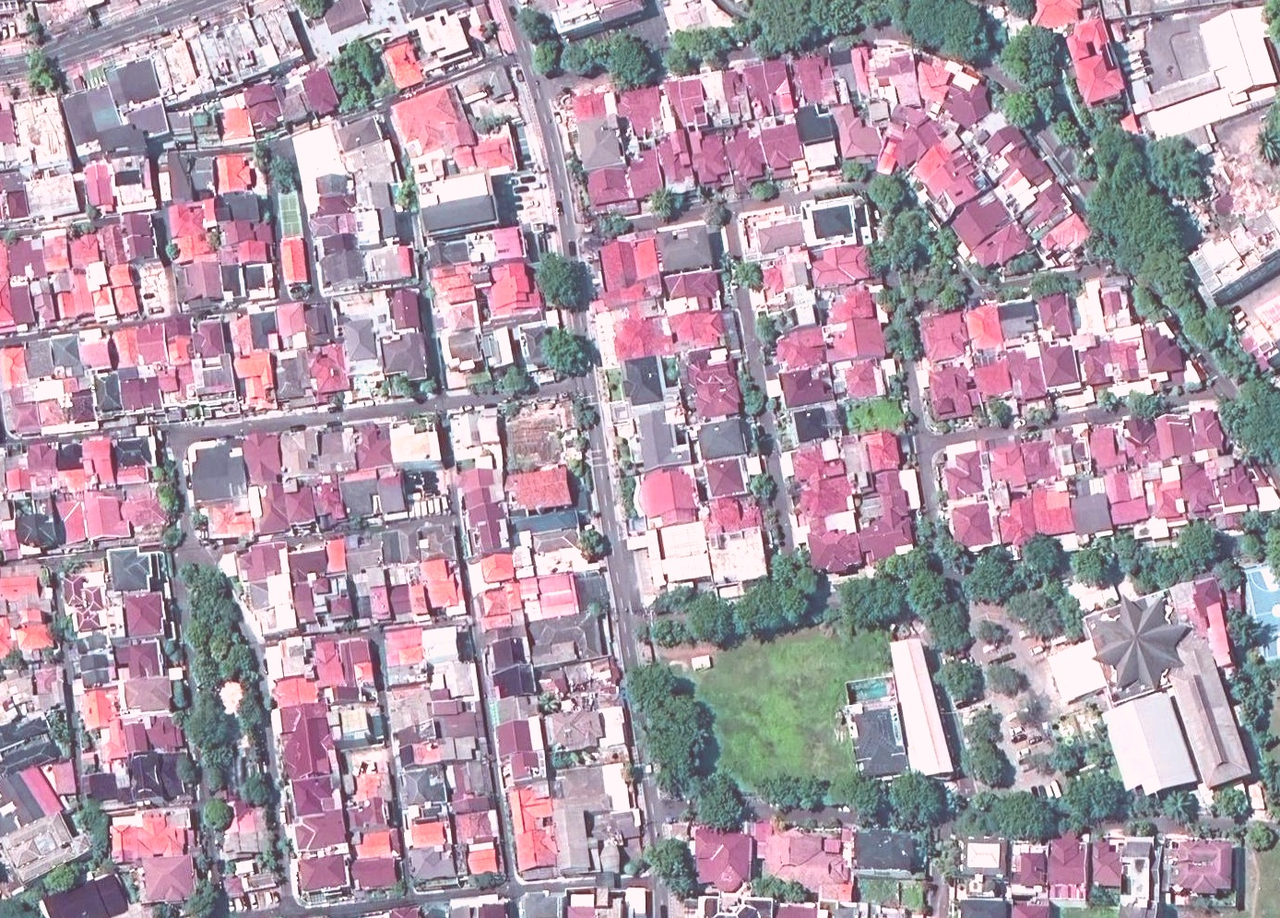building: (581, 225, 738, 371), (142, 0, 313, 112), (803, 465, 940, 601), (1077, 578, 1206, 707), (1156, 628, 1253, 791), (965, 119, 1081, 245), (531, 641, 630, 769), (291, 110, 404, 221), (1178, 191, 1280, 308), (1100, 688, 1199, 803), (786, 443, 867, 580), (887, 634, 954, 781), (940, 185, 1035, 282), (386, 682, 487, 769), (836, 673, 912, 784), (1139, 77, 1263, 145), (1133, 10, 1219, 108), (386, 80, 477, 169), (1197, 3, 1279, 100), (0, 804, 92, 890), (905, 131, 991, 221), (757, 825, 857, 901), (698, 487, 772, 589), (383, 625, 478, 703), (298, 0, 410, 65), (426, 258, 486, 374), (1058, 13, 1128, 109), (285, 121, 356, 215), (412, 168, 502, 242), (1168, 575, 1235, 674), (548, 760, 633, 838), (403, 0, 487, 75), (871, 100, 947, 178), (454, 464, 515, 560), (992, 481, 1078, 549), (513, 507, 590, 582), (56, 80, 129, 157), (523, 606, 608, 672), (238, 546, 298, 638), (503, 399, 576, 472), (0, 753, 66, 832), (681, 343, 745, 423), (756, 255, 819, 335), (1072, 272, 1140, 345), (11, 92, 73, 172), (1229, 270, 1279, 369), (507, 783, 560, 875), (107, 808, 191, 866), (364, 516, 457, 567), (644, 520, 713, 588), (186, 440, 248, 513), (1043, 638, 1109, 706), (653, 217, 726, 278), (277, 702, 333, 781), (18, 164, 86, 229), (0, 661, 69, 725), (689, 827, 755, 893), (633, 464, 700, 529), (40, 871, 132, 918), (863, 42, 921, 112), (59, 488, 131, 544), (492, 716, 549, 786), (547, 0, 649, 39), (705, 526, 770, 587), (480, 257, 542, 320), (447, 405, 504, 473), (481, 633, 537, 702), (792, 101, 844, 175), (800, 196, 873, 248), (597, 236, 662, 294), (850, 829, 925, 879), (830, 98, 885, 166), (505, 464, 574, 518), (1013, 181, 1076, 240), (104, 148, 157, 216), (314, 638, 374, 698), (0, 714, 63, 771), (570, 111, 625, 175), (103, 54, 164, 111), (608, 308, 671, 363), (518, 569, 582, 623), (312, 232, 367, 294), (741, 57, 795, 120), (550, 796, 592, 876), (127, 751, 192, 802), (631, 407, 682, 472), (164, 199, 215, 264), (1172, 840, 1232, 895), (417, 554, 467, 620), (756, 119, 809, 181), (721, 125, 772, 189), (652, 128, 700, 196), (807, 241, 872, 291), (383, 685, 439, 743), (918, 309, 972, 369), (215, 806, 273, 861), (1036, 210, 1094, 265), (788, 51, 840, 112), (660, 267, 724, 316), (941, 79, 999, 133), (685, 127, 733, 192), (171, 254, 227, 309), (60, 570, 108, 634), (589, 810, 640, 870), (473, 577, 528, 632), (233, 349, 281, 412), (105, 546, 167, 594), (225, 858, 282, 910), (771, 323, 829, 374), (925, 364, 975, 423), (339, 314, 383, 381), (1047, 834, 1087, 906), (379, 33, 427, 93), (544, 707, 605, 754), (0, 241, 32, 330), (290, 809, 348, 858), (1238, 274, 1279, 343), (379, 330, 429, 385), (1042, 425, 1090, 482), (663, 75, 711, 132), (1173, 460, 1220, 518), (947, 499, 997, 553), (712, 65, 756, 126), (914, 55, 959, 114), (468, 127, 519, 179), (306, 341, 350, 401), (778, 364, 834, 411), (510, 506, 581, 543), (293, 853, 350, 899), (1185, 405, 1229, 463), (261, 634, 314, 682), (142, 855, 195, 903), (362, 242, 417, 288), (240, 80, 286, 135), (297, 65, 342, 121), (464, 225, 525, 266), (241, 430, 284, 488), (668, 308, 726, 351), (1213, 463, 1260, 516), (1038, 340, 1083, 395), (118, 488, 168, 537), (407, 844, 459, 891), (996, 296, 1043, 348), (338, 470, 384, 523), (622, 148, 667, 202), (1119, 837, 1153, 908), (829, 318, 885, 361), (584, 163, 632, 213), (122, 97, 172, 145), (400, 764, 446, 816), (288, 773, 340, 819), (451, 794, 496, 847), (695, 417, 748, 462), (1006, 348, 1048, 404), (310, 573, 354, 626), (0, 385, 42, 440), (117, 674, 173, 715), (389, 421, 441, 465), (809, 531, 862, 574), (941, 448, 984, 501), (534, 571, 581, 619), (278, 428, 322, 479), (12, 509, 63, 553), (617, 86, 661, 137), (985, 440, 1028, 492), (963, 302, 1005, 355), (753, 216, 807, 257), (190, 353, 236, 401), (204, 500, 255, 543), (75, 633, 114, 689), (598, 238, 638, 292), (444, 757, 493, 801), (622, 355, 664, 406), (1084, 423, 1126, 474), (1035, 291, 1077, 342), (1153, 412, 1194, 464), (1143, 327, 1184, 379), (272, 349, 312, 402), (1069, 490, 1113, 538), (441, 326, 485, 374), (762, 253, 812, 295), (41, 755, 85, 802), (429, 262, 476, 306), (237, 541, 287, 582), (143, 711, 187, 757), (810, 201, 858, 243), (1010, 842, 1047, 896), (82, 158, 117, 215), (971, 355, 1014, 401), (315, 427, 357, 474), (1017, 436, 1058, 484), (345, 795, 393, 835), (828, 284, 877, 323), (270, 672, 320, 710), (96, 122, 147, 159), (351, 856, 401, 893), (704, 456, 747, 499), (79, 686, 121, 730), (226, 221, 270, 263), (863, 429, 904, 474), (216, 188, 267, 224), (121, 212, 157, 263), (75, 647, 118, 689), (213, 152, 256, 194), (0, 569, 44, 610), (320, 0, 371, 35), (113, 640, 161, 677), (842, 359, 884, 401), (679, 215, 719, 259), (493, 718, 534, 760), (278, 235, 311, 287), (7, 236, 46, 280), (274, 83, 313, 127), (374, 469, 408, 519), (81, 436, 115, 486), (133, 321, 169, 368), (48, 333, 84, 380), (787, 443, 828, 484), (124, 593, 162, 637), (258, 483, 290, 535), (356, 423, 391, 470), (459, 556, 499, 597), (592, 309, 619, 369), (57, 272, 93, 317), (1078, 343, 1113, 389), (421, 625, 461, 665), (384, 626, 424, 666), (119, 375, 162, 412), (442, 893, 505, 918), (164, 150, 193, 204), (95, 221, 129, 267), (388, 287, 422, 332), (28, 278, 59, 327), (287, 546, 329, 582), (13, 619, 55, 655), (191, 318, 227, 360), (1091, 840, 1121, 890), (1032, 0, 1082, 30), (283, 485, 317, 529), (345, 535, 383, 574), (66, 231, 103, 271), (336, 703, 371, 745), (1108, 494, 1150, 529), (792, 406, 830, 444), (82, 768, 121, 805), (217, 104, 254, 143), (92, 372, 124, 417), (98, 716, 129, 762), (435, 710, 479, 742), (77, 335, 113, 373), (350, 561, 389, 596), (40, 229, 71, 273), (966, 840, 1006, 874), (274, 300, 308, 340), (23, 338, 55, 380), (478, 550, 516, 585), (113, 435, 152, 469), (63, 387, 97, 426), (353, 761, 386, 801), (570, 89, 610, 122), (1110, 340, 1141, 382), (881, 513, 912, 554), (0, 345, 28, 390), (291, 578, 317, 626), (408, 819, 448, 850), (464, 841, 499, 876), (249, 310, 279, 350), (517, 891, 563, 917), (355, 829, 394, 859), (493, 325, 521, 366), (0, 184, 30, 222), (1154, 480, 1183, 519), (958, 896, 1010, 917), (111, 282, 141, 318), (851, 46, 871, 99), (189, 157, 216, 195), (654, 93, 679, 134), (113, 327, 138, 367), (367, 584, 392, 623), (374, 204, 400, 241), (1125, 415, 1155, 447), (27, 443, 56, 476), (1103, 470, 1132, 503), (122, 720, 150, 754), (714, 898, 764, 917), (539, 668, 570, 698), (243, 263, 272, 295), (388, 584, 412, 621), (219, 262, 243, 299), (1011, 900, 1058, 917), (624, 887, 650, 917), (1255, 482, 1280, 512), (156, 366, 181, 396), (237, 240, 268, 264), (0, 101, 17, 144), (431, 696, 465, 717), (5, 467, 32, 492), (57, 468, 85, 492), (108, 263, 133, 288), (0, 615, 13, 659), (454, 736, 476, 759), (477, 902, 508, 917), (388, 906, 423, 917), (1255, 268, 1277, 283), (570, 846, 584, 869), (421, 907, 448, 917)
tree: (1064, 160, 1187, 284), (1136, 241, 1239, 354), (1001, 566, 1097, 663), (636, 690, 720, 800), (897, 0, 1008, 71), (1136, 125, 1221, 216), (735, 0, 861, 58), (989, 18, 1071, 96), (1043, 768, 1131, 840), (524, 242, 600, 324), (173, 687, 247, 763), (674, 769, 750, 842), (1218, 377, 1279, 466), (1083, 120, 1155, 191), (1228, 654, 1280, 752), (527, 324, 605, 387), (588, 25, 661, 92), (676, 587, 747, 655), (864, 208, 937, 272), (881, 767, 952, 832), (615, 654, 683, 721), (639, 834, 703, 905), (822, 571, 904, 626), (956, 709, 1009, 792), (829, 766, 896, 831), (727, 580, 789, 646), (974, 793, 1050, 844), (893, 562, 953, 622), (1061, 539, 1121, 596), (176, 564, 233, 622), (1012, 531, 1070, 587), (1237, 512, 1280, 585), (1110, 529, 1155, 598), (1141, 538, 1196, 593), (967, 547, 1019, 605), (664, 27, 728, 73), (1119, 270, 1169, 328), (747, 871, 819, 911), (1208, 335, 1260, 390), (1173, 518, 1225, 572), (1203, 777, 1256, 829), (210, 635, 261, 689), (994, 83, 1045, 137), (752, 772, 822, 811), (909, 253, 957, 309), (878, 310, 925, 365), (1154, 784, 1204, 835), (343, 35, 390, 89), (552, 37, 601, 87), (869, 274, 920, 322), (925, 601, 970, 655), (174, 608, 226, 653), (860, 171, 913, 215), (767, 579, 815, 627), (490, 362, 538, 409), (931, 658, 977, 707), (921, 518, 966, 568), (506, 3, 556, 47), (176, 875, 226, 918), (523, 32, 568, 79), (81, 798, 111, 868), (179, 648, 225, 693), (39, 856, 87, 899), (321, 48, 364, 95), (1078, 98, 1127, 139), (875, 548, 932, 583), (1123, 388, 1174, 426), (193, 793, 237, 837), (929, 271, 974, 314), (231, 672, 264, 730), (642, 181, 685, 225), (558, 392, 600, 437), (635, 618, 693, 650), (571, 524, 614, 567), (1219, 612, 1264, 653), (1228, 530, 1271, 571), (198, 620, 236, 664), (234, 772, 274, 813), (1046, 110, 1084, 153), (982, 663, 1028, 698), (1253, 749, 1280, 808), (264, 152, 298, 197), (332, 83, 374, 119), (21, 49, 56, 92), (933, 846, 968, 887), (858, 1, 904, 32), (648, 586, 697, 615), (1253, 106, 1277, 163), (469, 105, 509, 139), (786, 566, 823, 602), (1044, 742, 1081, 778), (1025, 272, 1080, 296), (45, 708, 76, 750), (742, 470, 778, 506), (150, 479, 184, 517), (971, 615, 1010, 647), (736, 373, 765, 416), (766, 551, 802, 585), (964, 260, 1003, 291), (1242, 823, 1280, 854), (730, 260, 766, 292), (154, 520, 187, 554), (984, 398, 1017, 432), (386, 372, 421, 404), (392, 176, 420, 215), (697, 200, 730, 233), (931, 227, 964, 260), (1121, 813, 1154, 846), (1002, 251, 1040, 278), (911, 823, 938, 861), (616, 475, 638, 521), (609, 435, 636, 472), (209, 595, 241, 626), (1030, 88, 1060, 120), (739, 427, 768, 460), (752, 314, 779, 349), (596, 213, 633, 238), (198, 746, 233, 772), (174, 558, 204, 588), (238, 728, 263, 763), (544, 750, 574, 779), (87, 856, 118, 884), (18, 12, 47, 41), (910, 515, 938, 545), (248, 141, 274, 173), (992, 281, 1025, 306), (0, 897, 41, 917), (57, 553, 87, 578), (55, 613, 79, 644), (18, 883, 46, 909), (37, 642, 64, 668), (747, 181, 777, 204), (467, 872, 501, 892), (535, 690, 562, 715), (65, 807, 90, 833), (497, 397, 522, 423), (1089, 888, 1123, 907), (1064, 75, 1083, 108), (1094, 389, 1119, 414), (120, 872, 140, 902), (955, 804, 973, 837), (1005, 1, 1033, 22), (840, 160, 869, 180), (296, 1, 330, 18), (188, 852, 212, 876), (567, 431, 592, 454), (564, 458, 591, 479), (885, 372, 905, 400), (203, 770, 225, 795), (660, 356, 681, 382), (186, 508, 208, 532), (272, 836, 295, 858), (176, 760, 197, 783), (253, 847, 276, 868), (372, 381, 393, 404), (149, 902, 179, 918), (417, 377, 438, 396), (75, 218, 94, 238), (565, 157, 584, 176), (960, 575, 974, 600), (160, 457, 175, 480), (81, 203, 100, 221), (148, 466, 167, 484), (621, 861, 643, 876), (1, 228, 19, 246), (38, 566, 53, 586), (340, 618, 357, 635), (762, 397, 779, 414), (208, 228, 221, 250), (770, 814, 790, 828), (163, 243, 179, 260), (220, 860, 236, 877), (798, 817, 815, 830), (190, 311, 205, 325), (823, 818, 839, 830), (485, 20, 497, 35)
